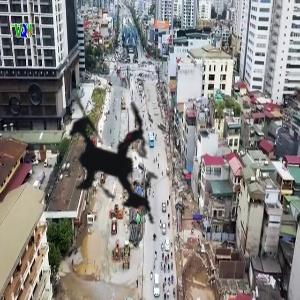drone: (10, 55, 222, 267)
